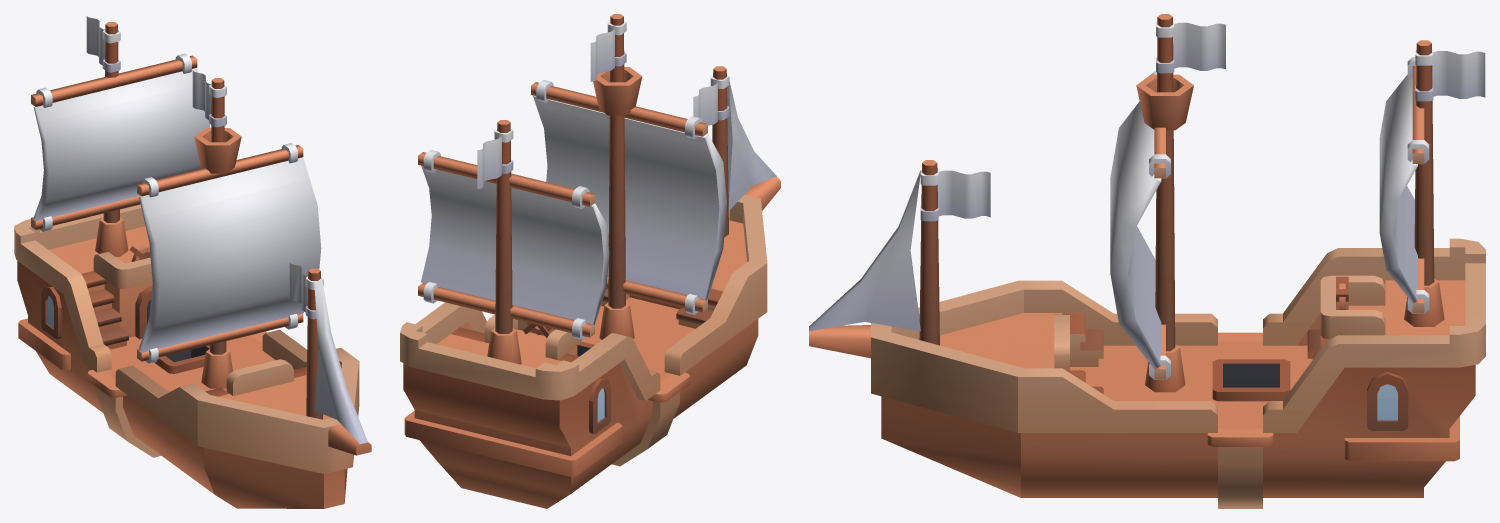
Rendered from ship-large.glb.
The picture shows the model from 3 angles, left to right: view 1: azimuth 30°, elevation 25°; view 2: azimuth 150°, elevation 25°; view 3: azimuth 270°, elevation 25°; orthographic projection. The views are drawn at different scales.
Visible parts, largest first — view 1: ship-large; view 2: ship-large; view 3: ship-large.
Part boxes in pixels (bbox=[...]): ship-large: bbox=[14, 16, 371, 508]; ship-large: bbox=[400, 14, 780, 508]; ship-large: bbox=[809, 14, 1485, 508].
Size of the model in its own units: 4.8 by 9.96 by 13.1.
1 material, 1 textured.
